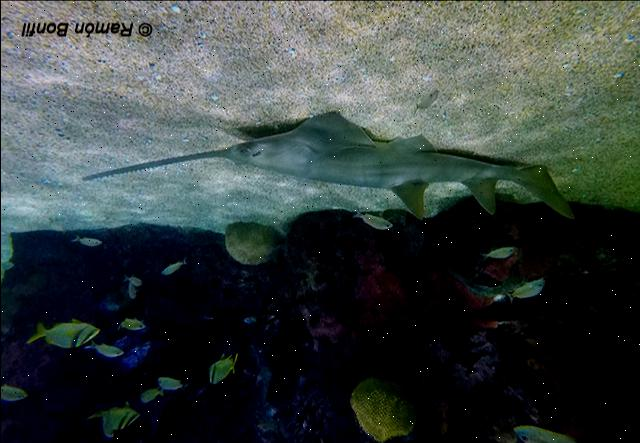Sirip Ekor: (520, 149, 582, 235)
Sirip Punggung: (371, 176, 504, 227)
